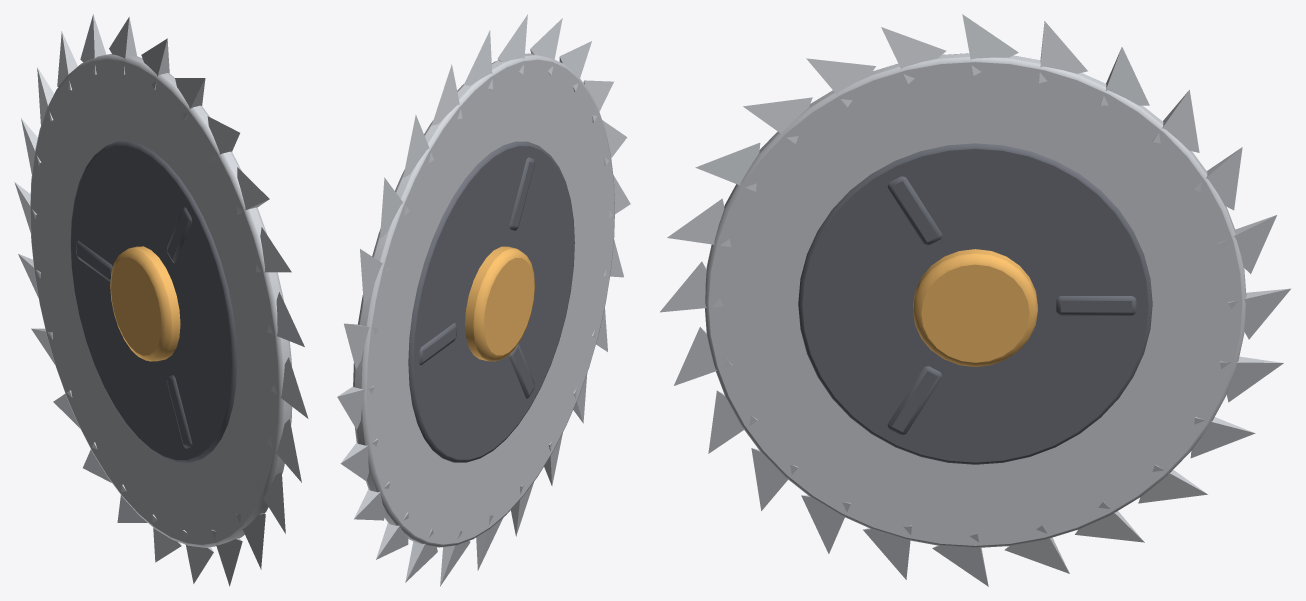
Rendered from saw_blade.glb.
3 views of the same model, side by side, from view 1: azimuth 30°, elevation 25°; view 2: azimuth 150°, elevation 25°; view 3: azimuth 270°, elevation 25° (orthographic). The views are drawn at different scales.
Visible parts, largest first — view 1: Saw Blade; view 2: Saw Blade; view 3: Saw Blade.
Boxes of the visible parts, <box> form: Saw Blade: <box>14,14,308,586</box>; Saw Blade: <box>337,14,630,586</box>; Saw Blade: <box>660,14,1290,586</box>.
Bounding box in the file's own units: 0.03 × 0.3032 × 0.3032.
